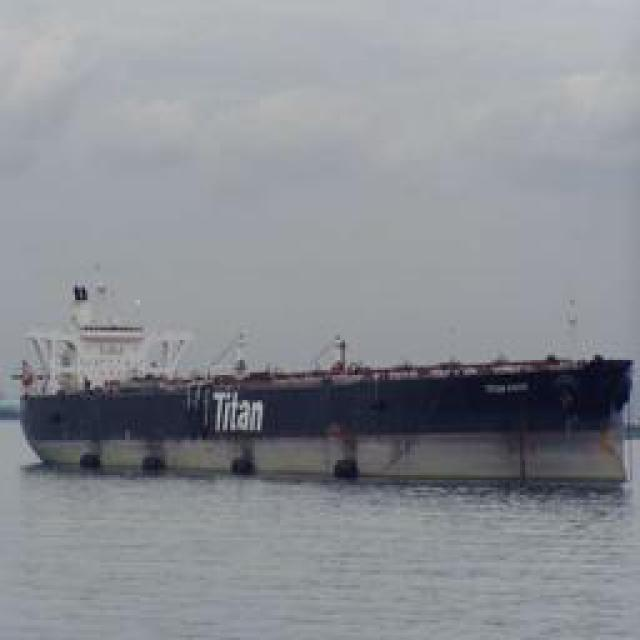Ship: (5, 344, 635, 484)
